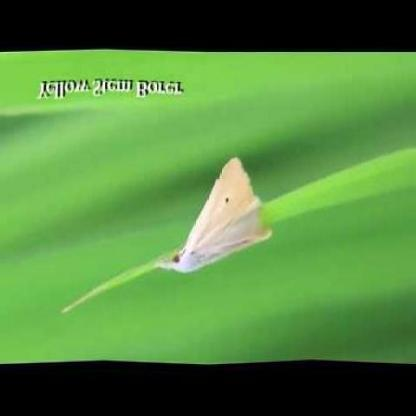stem-borer: (155, 154, 273, 274)
